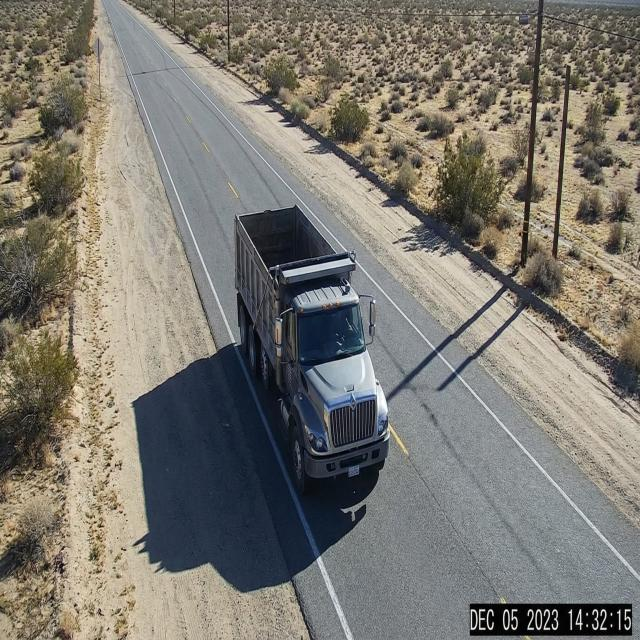trailer: (237, 205, 356, 275)
truck: (232, 190, 391, 473)
